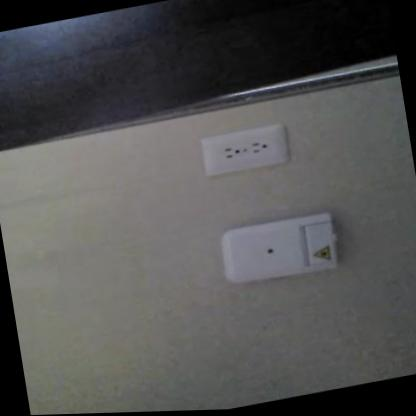OUTLET: (199, 120, 290, 177)
